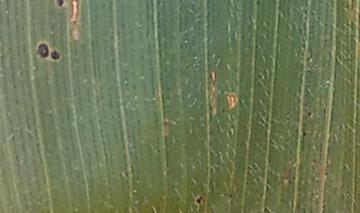tarspot: (35, 42, 50, 59), (49, 48, 61, 62), (195, 194, 205, 205), (54, 1, 66, 8), (305, 109, 313, 118), (300, 129, 307, 138), (227, 192, 235, 199), (220, 106, 225, 114), (255, 1, 261, 7)
